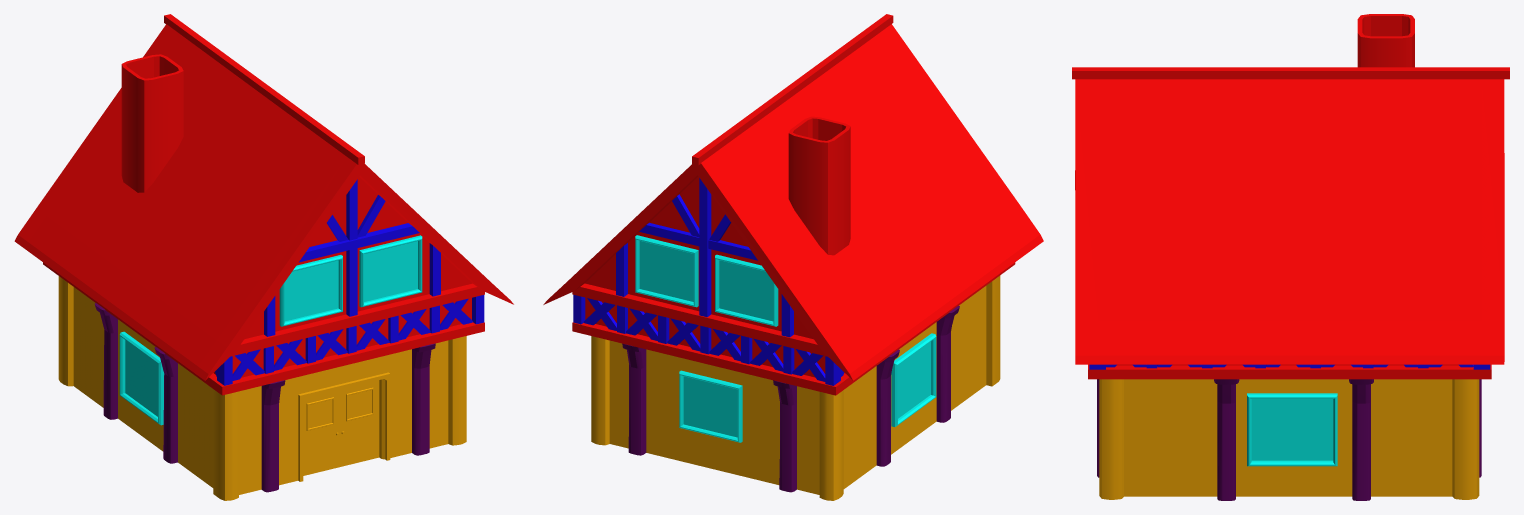
Rendered from House.fbx.
3 views of the same model, side by side, from view 1: azimuth 30°, elevation 25°; view 2: azimuth 150°, elevation 25°; view 3: azimuth 270°, elevation 25° (orthographic). The views are drawn at different scales.
Parts seen in each view (by area): view 1: Roof, HouseBase, Windows, WoodFrame, BasePillars; view 2: Roof, HouseBase, Windows, WoodFrame, BasePillars; view 3: Roof, HouseBase, Windows, BasePillars, WoodFrame.
Boxes of the visible parts, x1,y1,x2,y2 form: Roof: [14, 14, 513, 395]; HouseBase: [58, 276, 466, 500]; Windows: [119, 235, 422, 425]; WoodFrame: [215, 179, 484, 385]; BasePillars: [94, 303, 435, 492]; Roof: [543, 14, 1043, 395]; HouseBase: [591, 275, 1000, 500]; Windows: [635, 235, 936, 442]; WoodFrame: [573, 178, 844, 385]; BasePillars: [622, 306, 959, 492]; Roof: [1072, 14, 1509, 379]; HouseBase: [1099, 379, 1479, 499]; Windows: [1247, 393, 1337, 466]; BasePillars: [1097, 379, 1481, 500]; WoodFrame: [1089, 364, 1490, 369].
Bounding box in the file's own units: 857 × 867 × 931.
